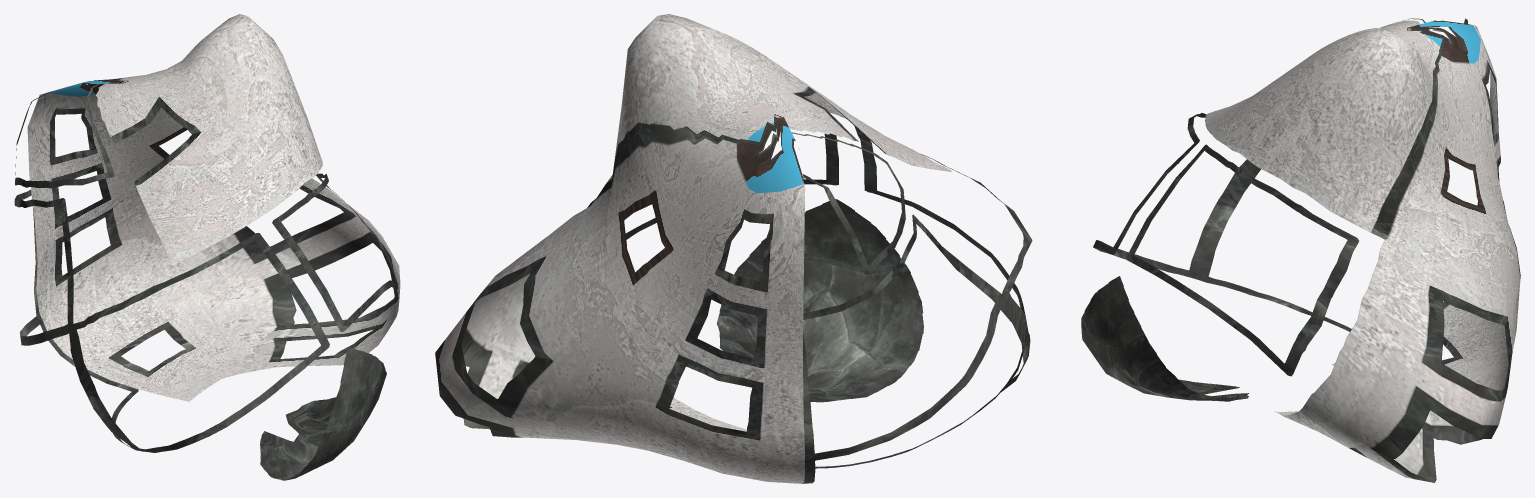
Rendered from Rock_01.fbx.
The picture shows the model from 3 angles, left to right: view 1: azimuth 30°, elevation 25°; view 2: azimuth 150°, elevation 25°; view 3: azimuth 270°, elevation 25°; orthographic projection. The views are drawn at different scales.
Visible parts, largest first — view 1: Sphere; view 2: Sphere; view 3: Sphere.
Part boxes in pixels (left/top/right/bottom): Sphere: left=14, top=14, right=400, bottom=480; Sphere: left=435, top=14, right=1032, bottom=483; Sphere: left=1081, top=18, right=1520, bottom=482.
Size of the model in its own units: 243 by 212 by 220.
